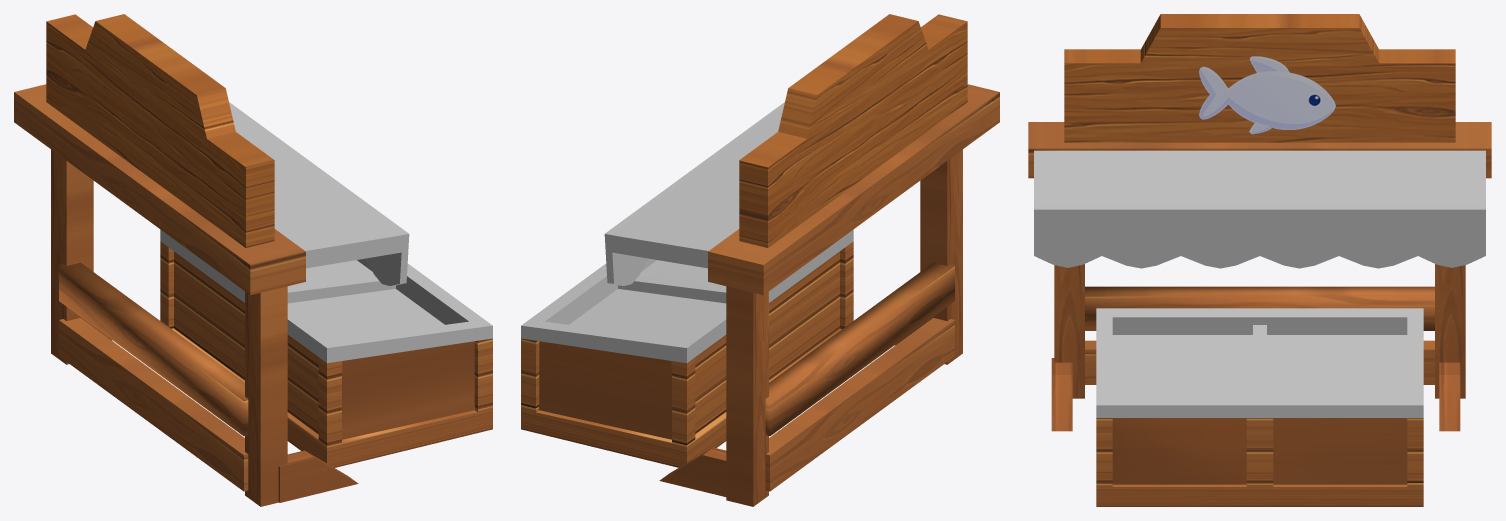
File: Shop01.fbx
3 renders of one model, left to right at view 1: azimuth 30°, elevation 25°; view 2: azimuth 150°, elevation 25°; view 3: azimuth 270°, elevation 25°, orthographic. The views are drawn at different scales.
Parts seen in each view (by area): view 1: Shop01; view 2: Shop01; view 3: Shop01.
Part boxes in pixels (<box>): Shop01: <box>14,14,492,506</box>; Shop01: <box>521,14,999,506</box>; Shop01: <box>1028,14,1491,506</box>.
Size of the model in its own units: 4.16 by 5.38 by 6.15.
